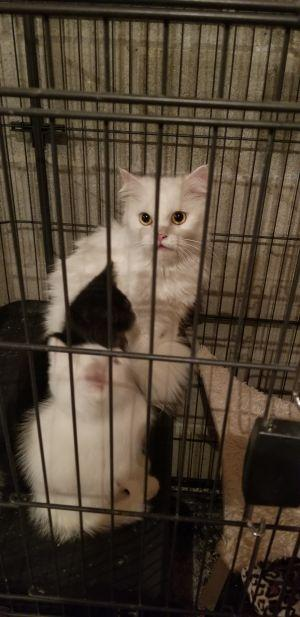persian: (109, 155, 216, 270)
